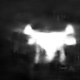plane: (15, 22, 79, 66)
